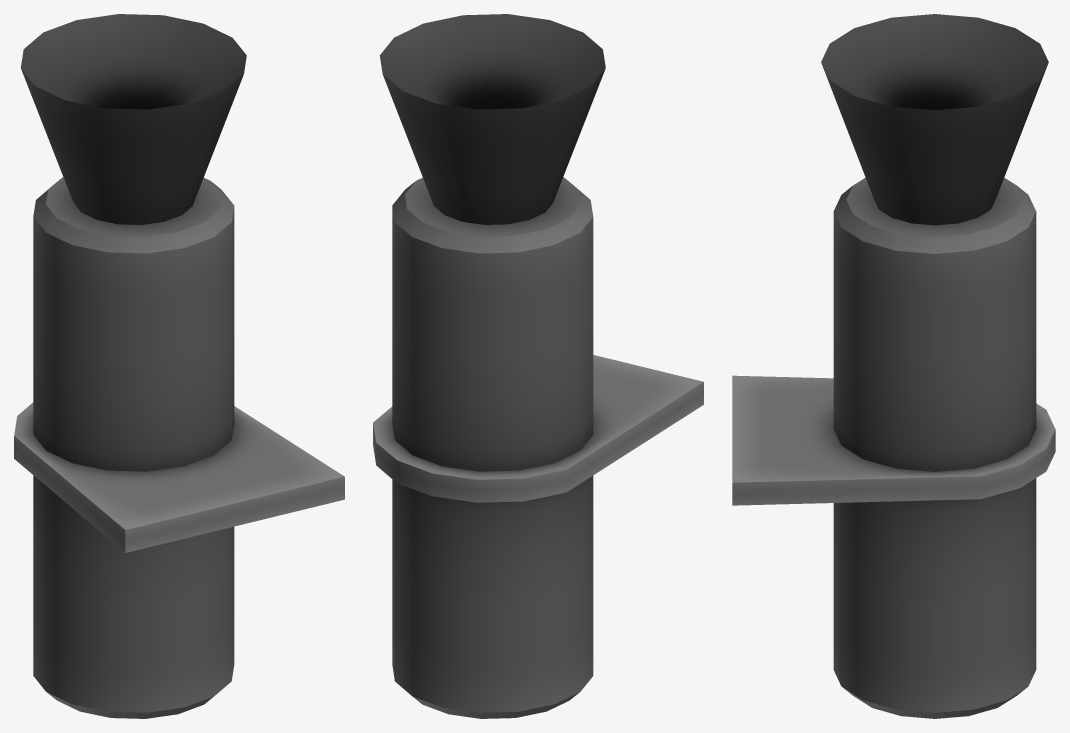
The model's file is Libra_Nesting_1.obj.
The picture shows the model from 3 angles, left to right: view 1: azimuth 30°, elevation 25°; view 2: azimuth 150°, elevation 25°; view 3: azimuth 270°, elevation 25°; orthographic projection.
Parts seen in each view (by area): view 1: Libra_Nesting_1; view 2: Libra_Nesting_1; view 3: Libra_Nesting_1.
Part boxes in pixels (x1=…): Libra_Nesting_1: x1=14, y1=14, x2=344, y2=718; Libra_Nesting_1: x1=373, y1=14, x2=703, y2=718; Libra_Nesting_1: x1=732, y1=14, x2=1055, y2=718.
Bounding box in the file's own units: 0.1 × 0.27 × 0.1276.
